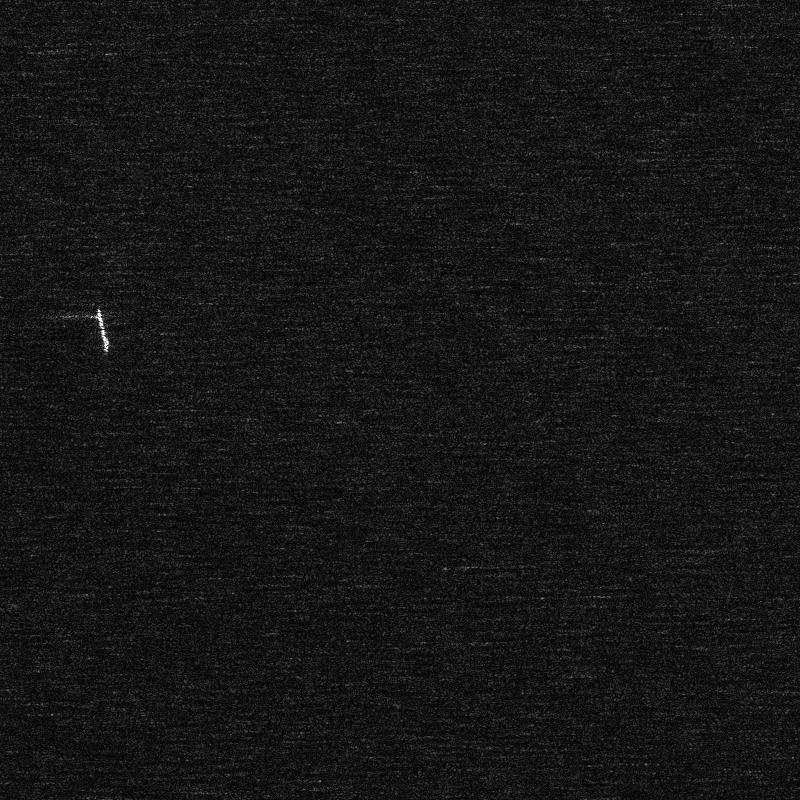ship: (96, 309, 109, 351)
